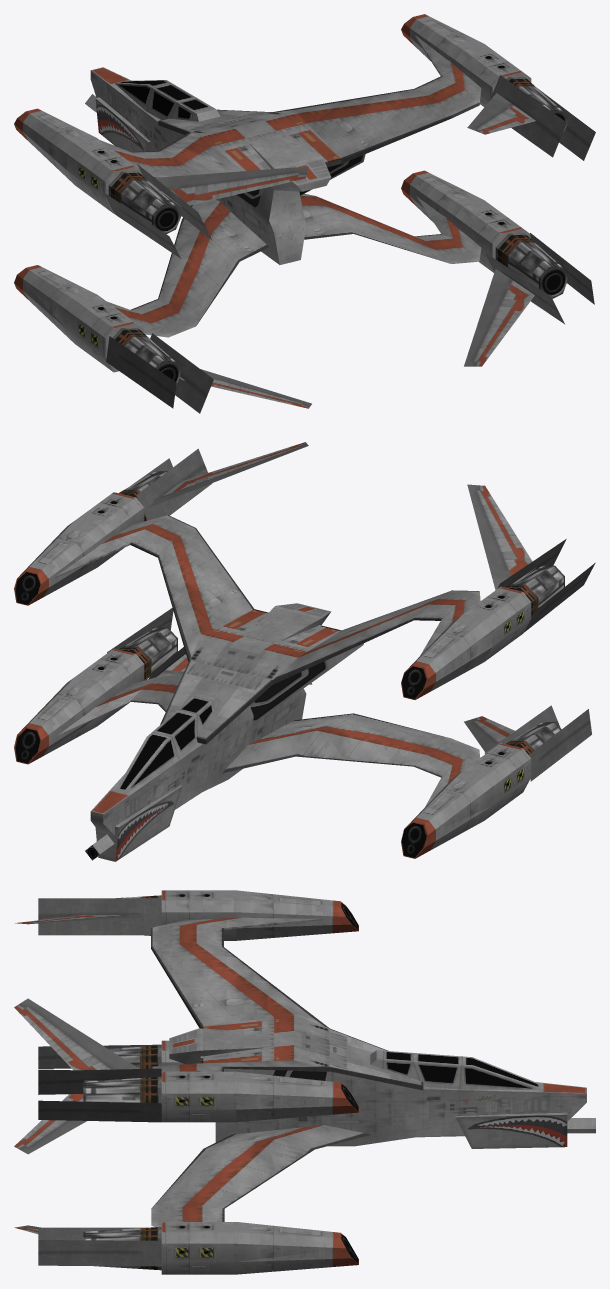
The model's file is thunderbolt.glb.
3 renders of one model, top to bottom at view 1: azimuth 30°, elevation 25°; view 2: azimuth 150°, elevation 25°; view 3: azimuth 270°, elevation 25°, orthographic. The views are drawn at different scales.
Visible parts, largest first — view 1: tbolt; view 2: tbolt; view 3: tbolt.
Part boxes in pixels (left/top/right/bottom): tbolt: left=14, top=14, right=595, bottom=413; tbolt: left=14, top=442, right=595, bottom=861; tbolt: left=14, top=890, right=595, bottom=1274.
Bounding box in the file's own units: 12.63 × 6.65 × 15.35.
7 materials, 7 textured.
